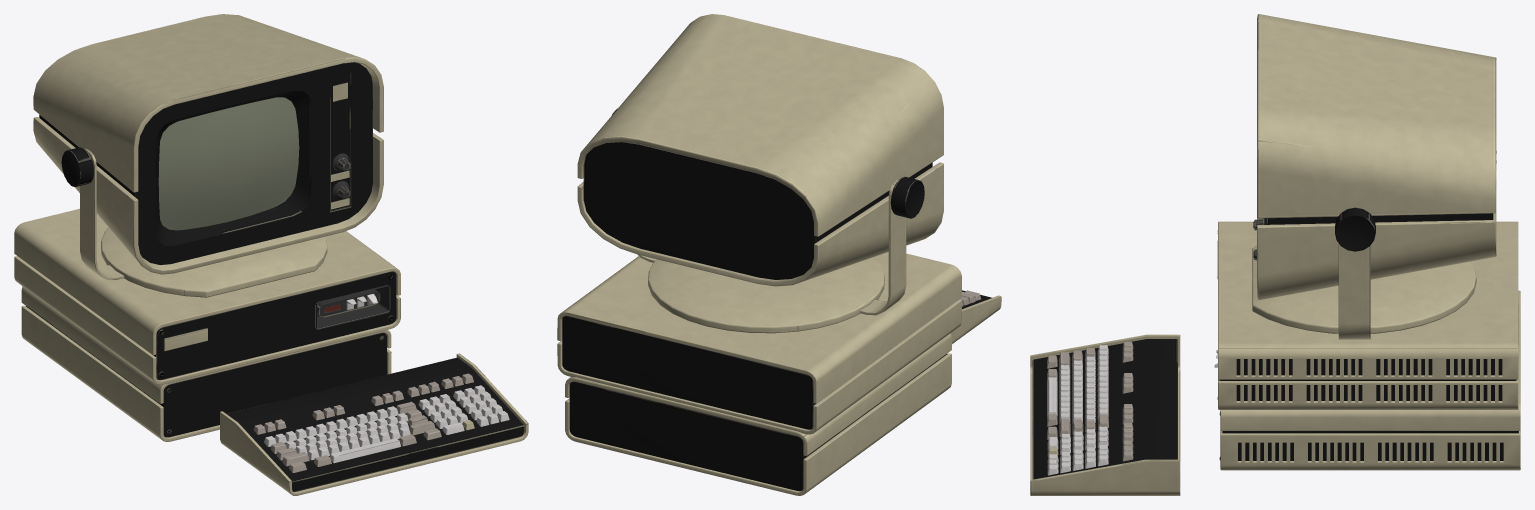
The model's file is retro_electronics_retro_pc.glb.
3 views of the same model, side by side, from view 1: azimuth 30°, elevation 25°; view 2: azimuth 150°, elevation 25°; view 3: azimuth 270°, elevation 25° (orthographic). The views are drawn at different scales.
Parts seen in each view (by area): view 1: Cube.075_0; view 2: Cube.075_0; view 3: Cube.075_0.
Part boxes in pixels (<box>): Cube.075_0: <box>14,14,528,495</box>; Cube.075_0: <box>557,14,1001,495</box>; Cube.075_0: <box>1030,14,1520,495</box>.
Size of the model in its own units: 2.55 by 2.57 by 3.27.
1 material, 1 textured.
